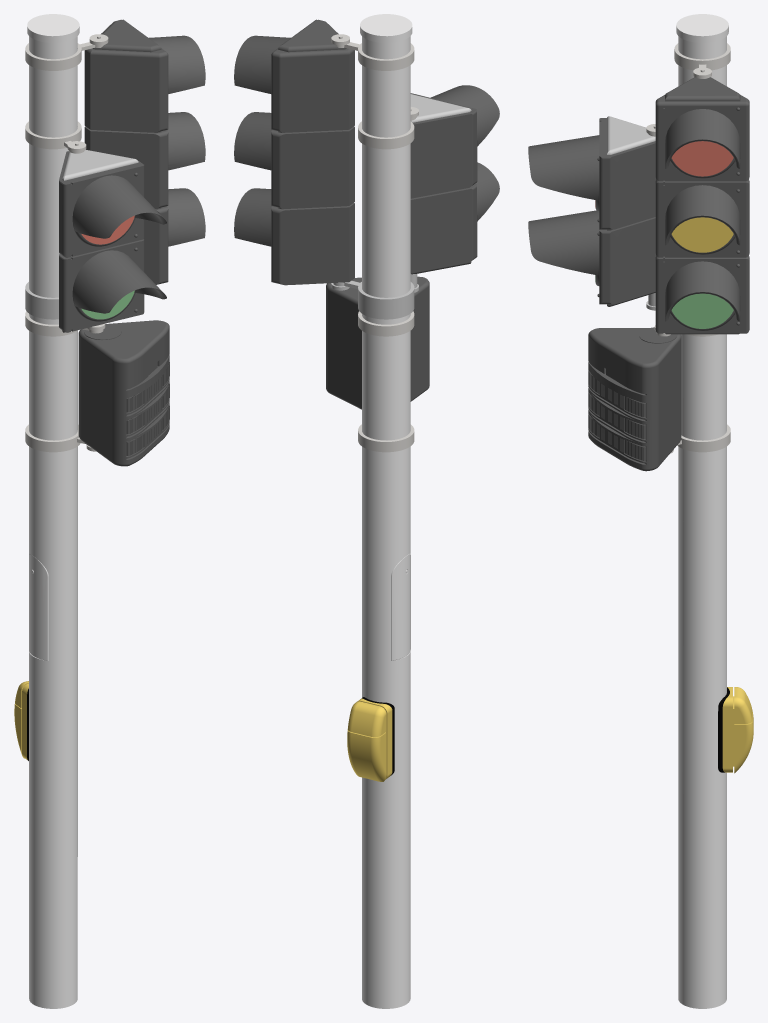
The model's file is traffic light R.fbx.
3 views of the same model, side by side, from view 1: azimuth 30°, elevation 25°; view 2: azimuth 150°, elevation 25°; view 3: azimuth 270°, elevation 25° (orthographic).
Parts seen in each view (by area): view 1: traffic light pole; view 2: traffic light pole; view 3: traffic light pole, traffic yellow light, traffic red light, traffic green light.
Part boxes in pixels (x1=…): traffic light pole: x1=14, y1=14, x2=205, y2=1008; traffic light pole: x1=234, y1=14, x2=499, y2=1008; traffic light pole: x1=528, y1=14, x2=753, y2=1008; traffic yellow light: x1=671, y1=217, x2=733, y2=252; traffic red light: x1=671, y1=141, x2=733, y2=176; traffic green light: x1=671, y1=293, x2=733, y2=328.
Size of the model in its own units: 5.5 by 28.6 by 6.
